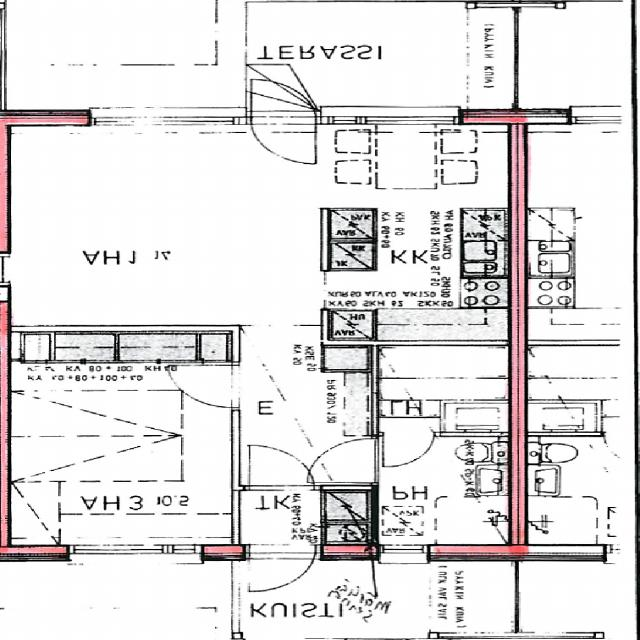door: (249, 546, 315, 602), (252, 67, 318, 123), (252, 109, 318, 165), (303, 438, 379, 482), (250, 444, 315, 491), (168, 364, 238, 405), (382, 431, 438, 471)
